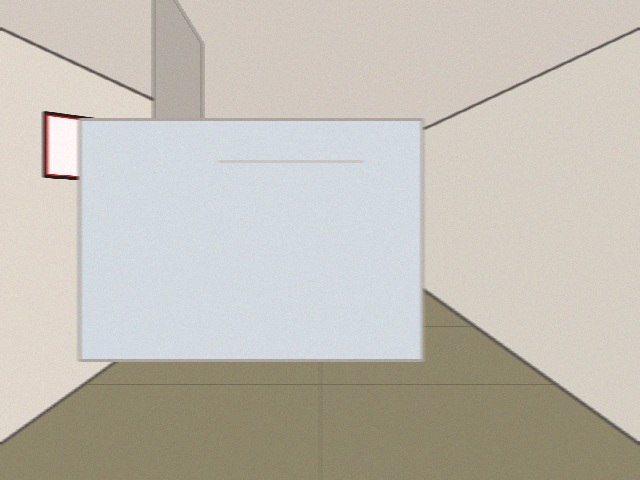directional_sign: (44, 112, 170, 184)
hospital_bed: (79, 119, 422, 360)
